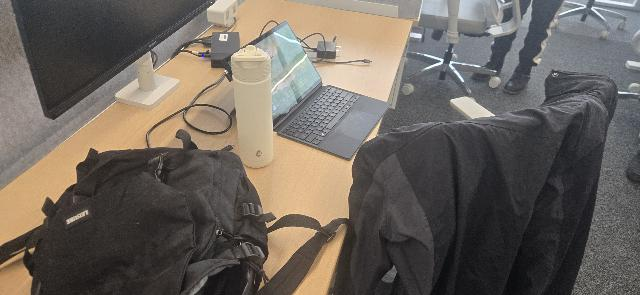Keyboard: (282, 88, 360, 145)
